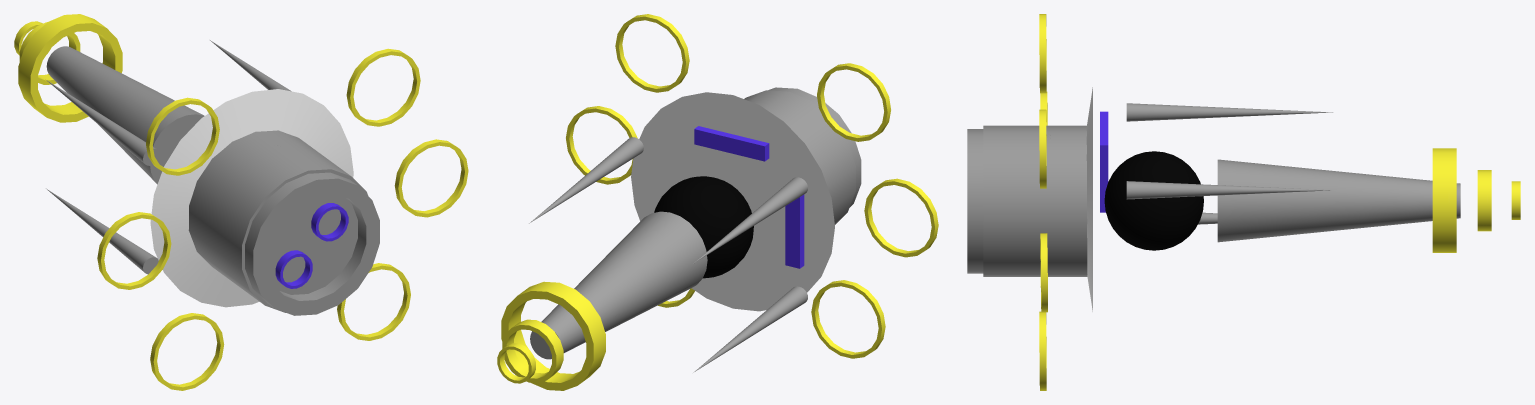
Rendered from SpaceShip.FBX.
The picture shows the model from 3 angles, left to right: view 1: azimuth 30°, elevation 25°; view 2: azimuth 150°, elevation 25°; view 3: azimuth 270°, elevation 25°; orthographic projection. The views are drawn at different scales.
Visible parts, largest first — view 1: Cylinder001, Cone001, Tube011, Cone002, Tube012, Tube007, Tube004, Tube001, Tube002, Tube005, Cone003, Cone005 (+5 smaller); view 2: Cone001, Cone002, Sphere001, Cylinder001, Tube012, Tube013, Tube005, Tube001, Tube007, Tube004, Box004, Cone003 (+6 smaller); view 3: Cylinder001, Cone002, Sphere001, Tube012, Tube011, Cone003, Cone004, Cone001, Tube013, Tube004, Tube005, Tube006 (+1 smaller).
Boxes of the visible parts, x1,y1,x2,y2 form: Cylinder001: [188, 130, 368, 312]; Cone001: [150, 89, 353, 307]; Tube011: [245, 172, 379, 315]; Cone002: [46, 46, 204, 184]; Tube012: [18, 14, 122, 122]; Tube007: [150, 313, 224, 390]; Tube004: [146, 97, 219, 175]; Tube001: [97, 212, 171, 289]; Tube002: [394, 139, 468, 217]; Tube005: [346, 48, 420, 126]; Cone003: [46, 80, 160, 165]; Cone005: [46, 188, 158, 274]; Cone001: [631, 92, 834, 311]; Cone002: [530, 211, 707, 359]; Sphere001: [654, 176, 753, 278]; Cylinder001: [744, 90, 855, 224]; Tube012: [501, 281, 605, 390]; Tube013: [502, 319, 563, 383]; Tube005: [615, 14, 689, 92]; Tube001: [864, 178, 938, 257]; Tube007: [811, 280, 885, 358]; Tube004: [817, 63, 890, 141]; Box004: [694, 126, 769, 161]; Cone003: [693, 177, 807, 263]; Cylinder001: [983, 125, 1087, 276]; Cone002: [1217, 159, 1460, 242]; Sphere001: [1104, 151, 1203, 250]; Tube012: [1432, 148, 1456, 252]; Tube011: [967, 129, 983, 273]; Cone003: [1126, 103, 1332, 121]; Cone004: [1126, 181, 1330, 199]; Cone001: [1086, 87, 1092, 311]; Tube013: [1477, 170, 1491, 231]; Tube004: [1039, 14, 1046, 93]; Tube005: [1039, 109, 1046, 188]; Tube006: [1039, 311, 1046, 390].
Size of the model in its own units: 265 by 199 by 354.
5 materials, 5 textured.
